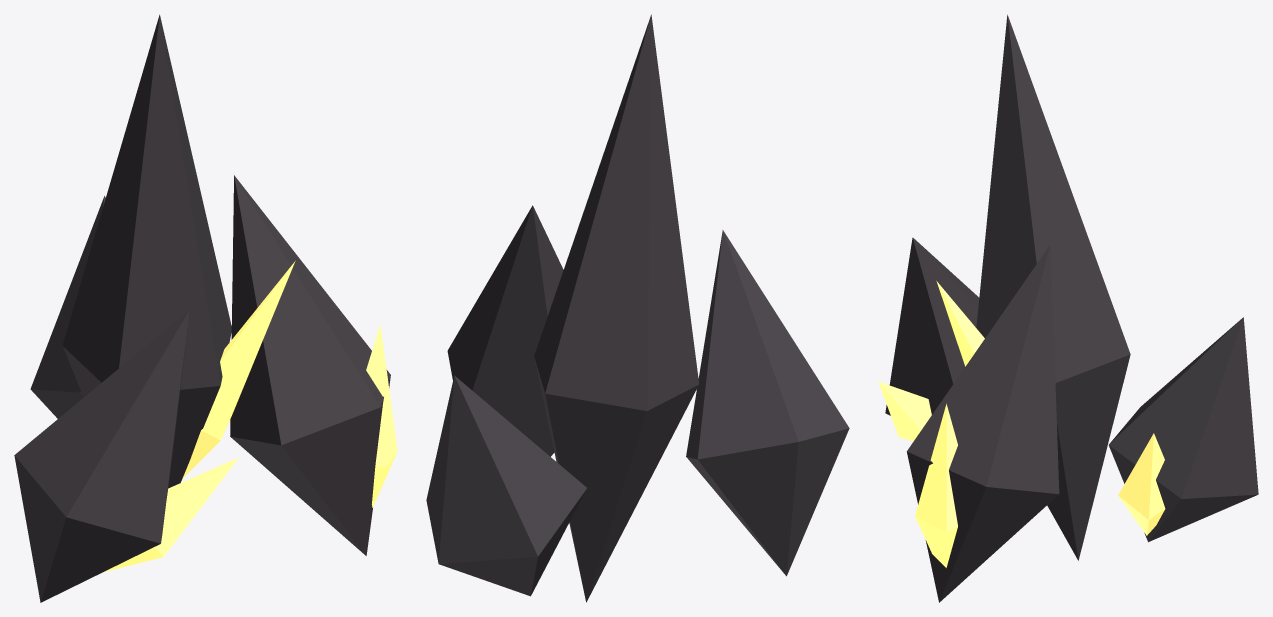
File: crystal-growth.glb
3 views of the same model, side by side, from view 1: azimuth 30°, elevation 25°; view 2: azimuth 150°, elevation 25°; view 3: azimuth 270°, elevation 25° (orthographic). The views are drawn at different scales.
Visible parts, largest first — view 1: crystals; view 2: crystals; view 3: crystals.
Boxes of the visible parts, x1,y1,x2,y2 form: crystals: (14, 14, 397, 602); crystals: (426, 14, 849, 602); crystals: (878, 14, 1258, 602).
Size of the model in its own units: 1.12 by 1.69 by 1.09.
